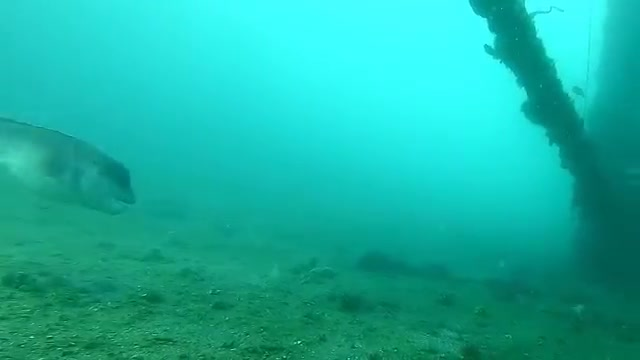smallfish: (1, 113, 149, 222)
